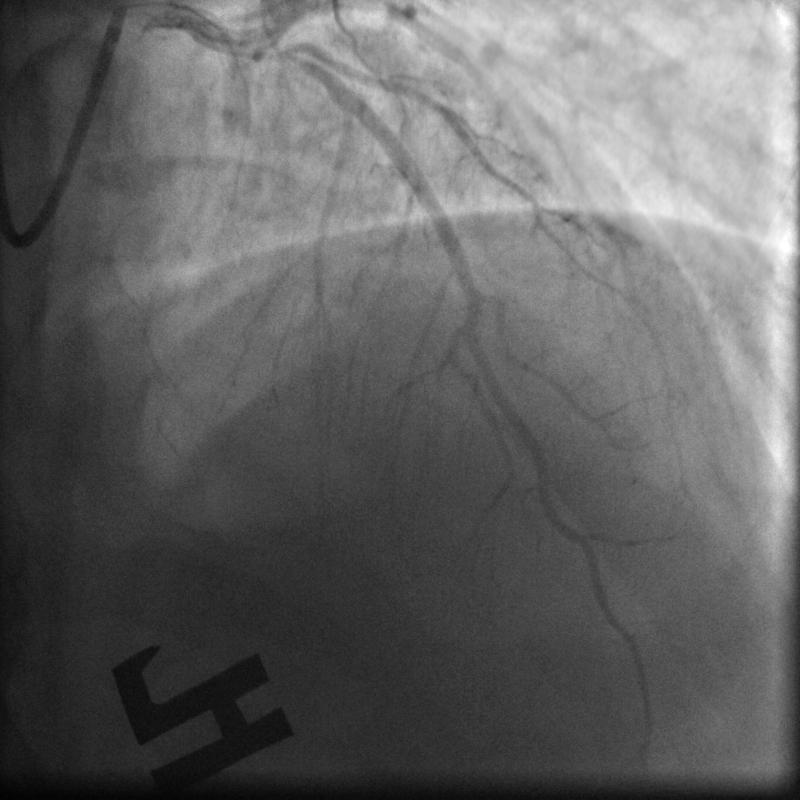Stenosis: (222, 28, 293, 59)
